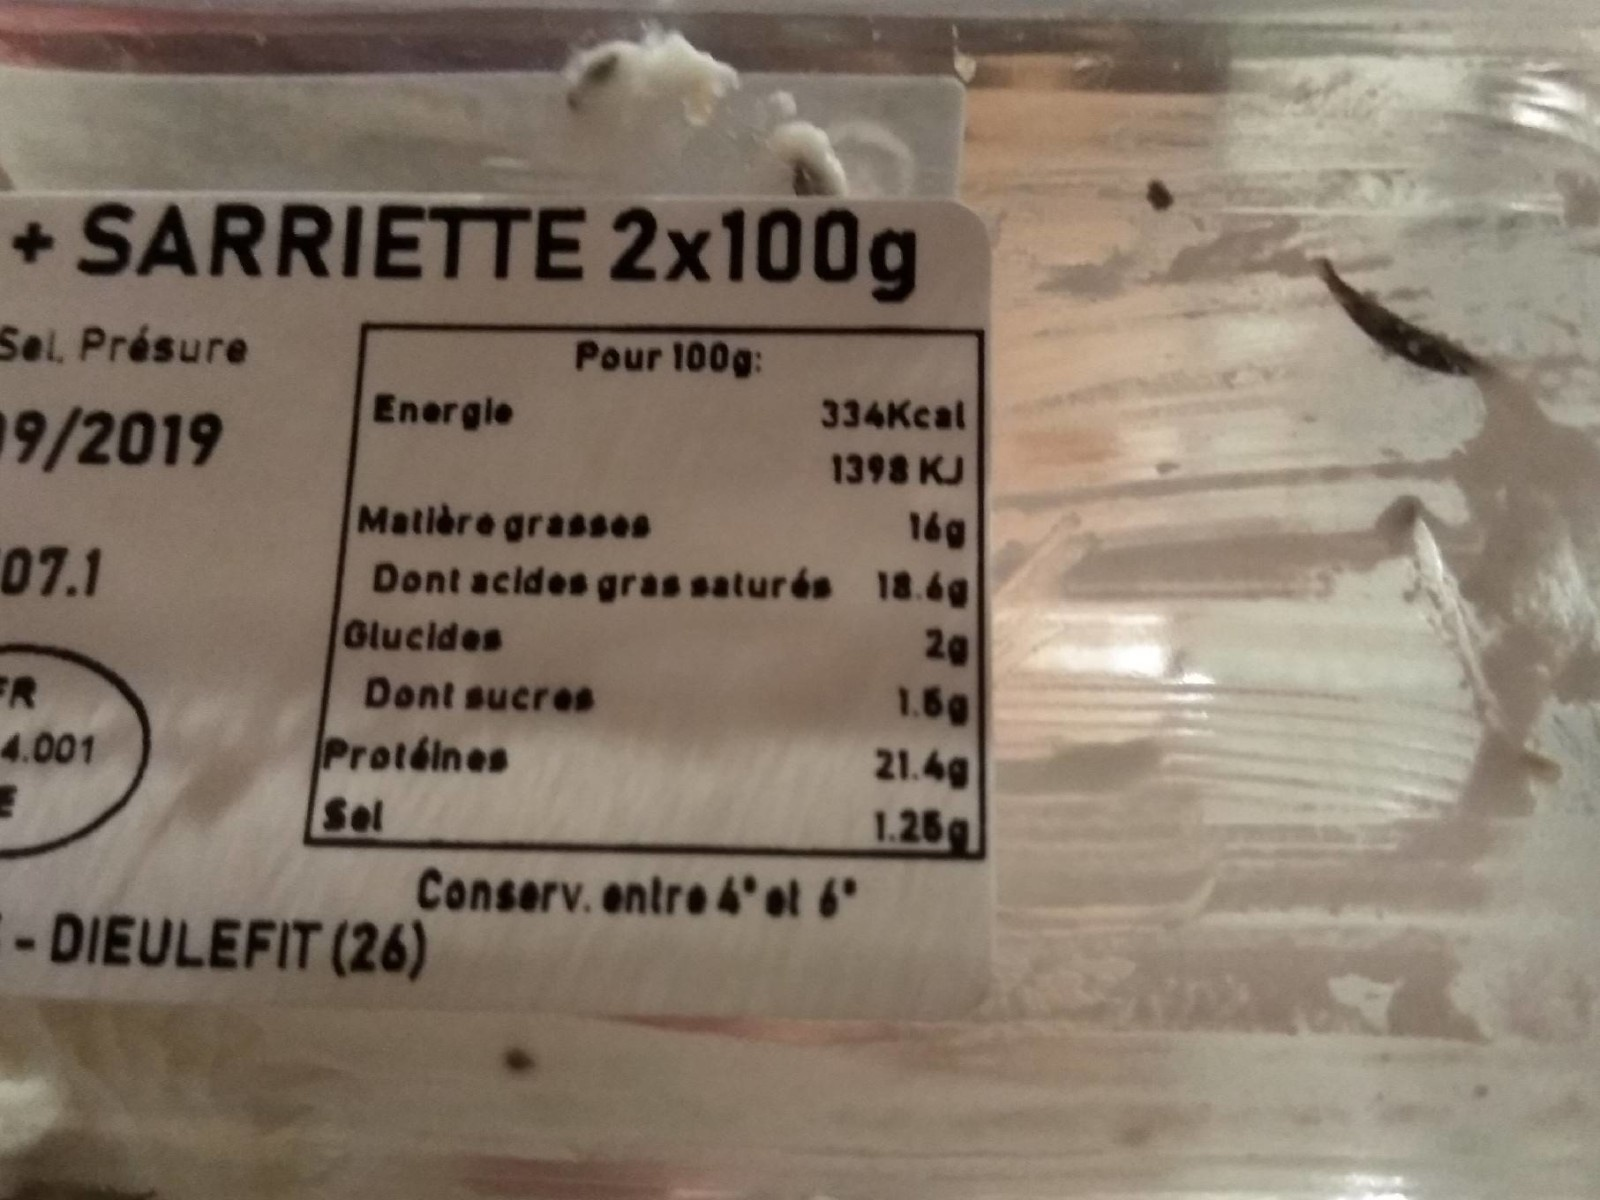table: (312, 330, 981, 863)
